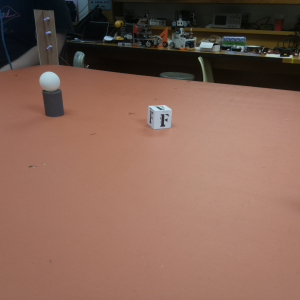blockF: (147, 103, 172, 131)
corner: (32, 9, 59, 64)
obstacle: (37, 71, 65, 118)
